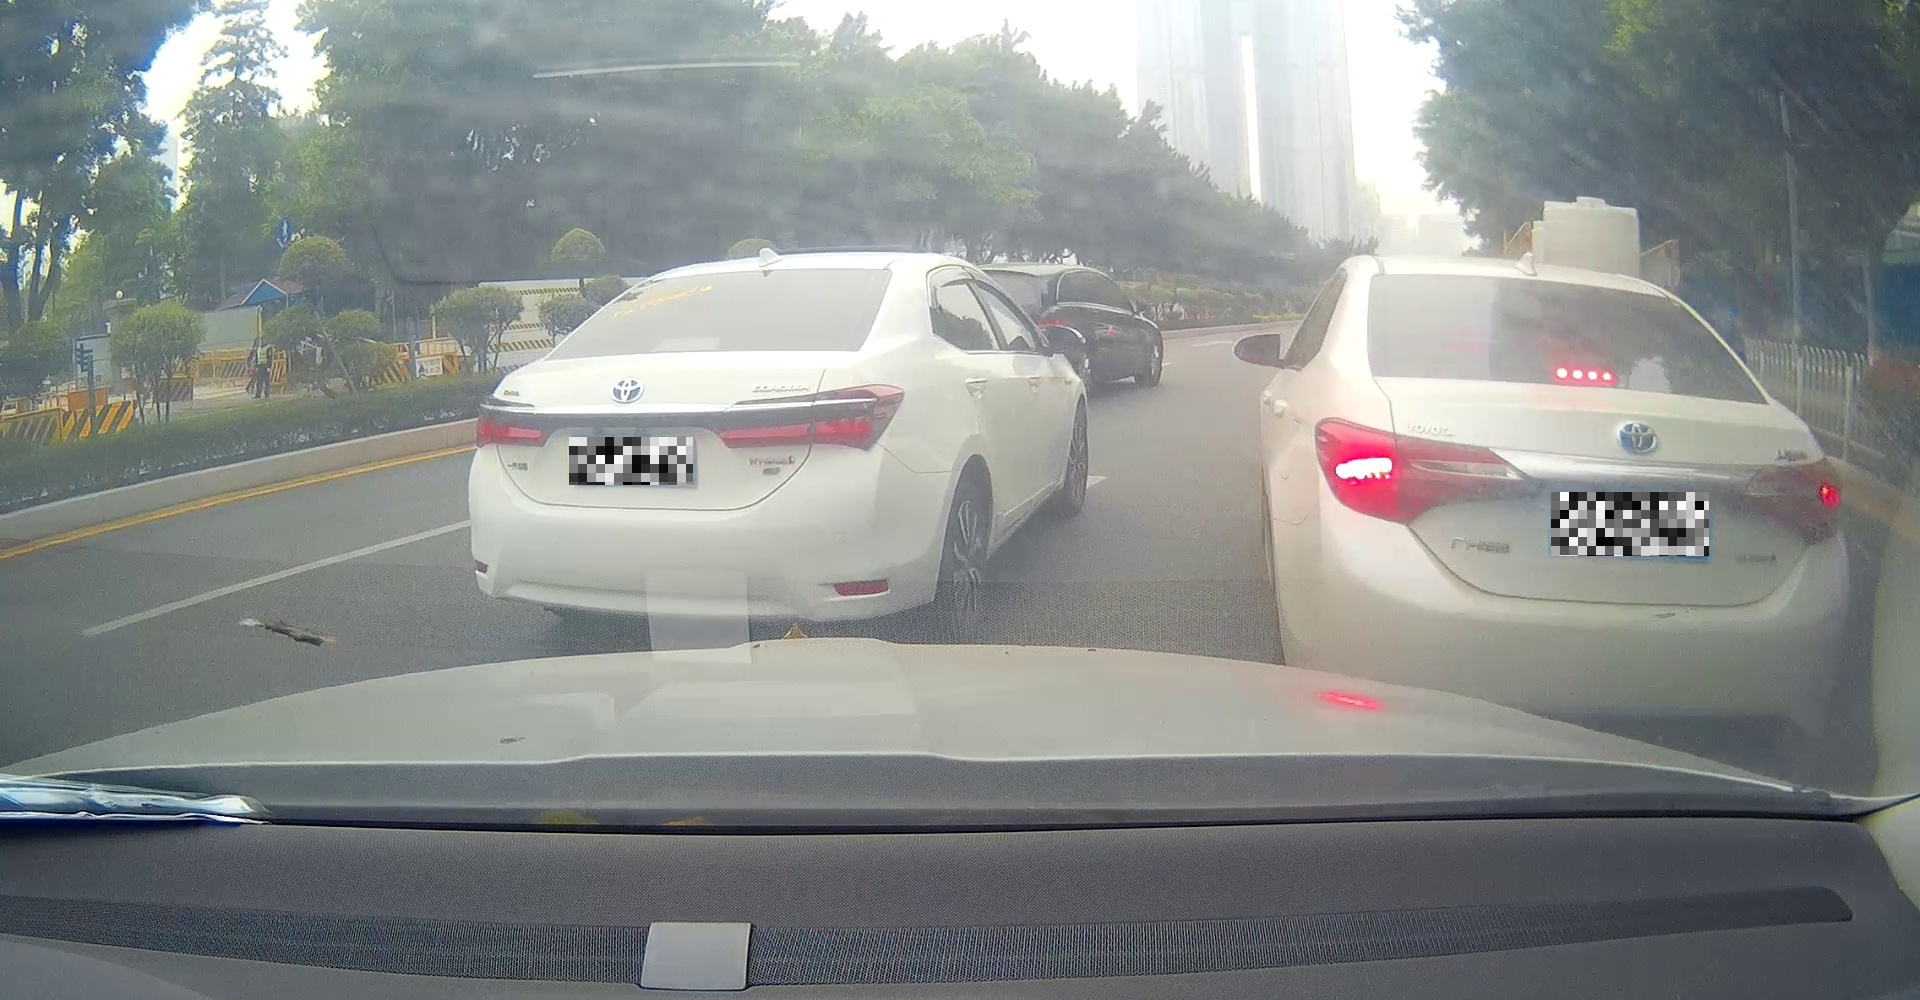L_light: (1313, 415, 1543, 524), (472, 397, 568, 449)
R_light: (705, 383, 905, 451), (1732, 449, 1846, 544)
T_light: (1556, 363, 1617, 385), (657, 334, 719, 352)
day-brake: (1310, 261, 1851, 768)
day-no: (463, 260, 914, 679)
plate_1: (569, 437, 693, 485)
plate_2: (1550, 492, 1709, 556)
